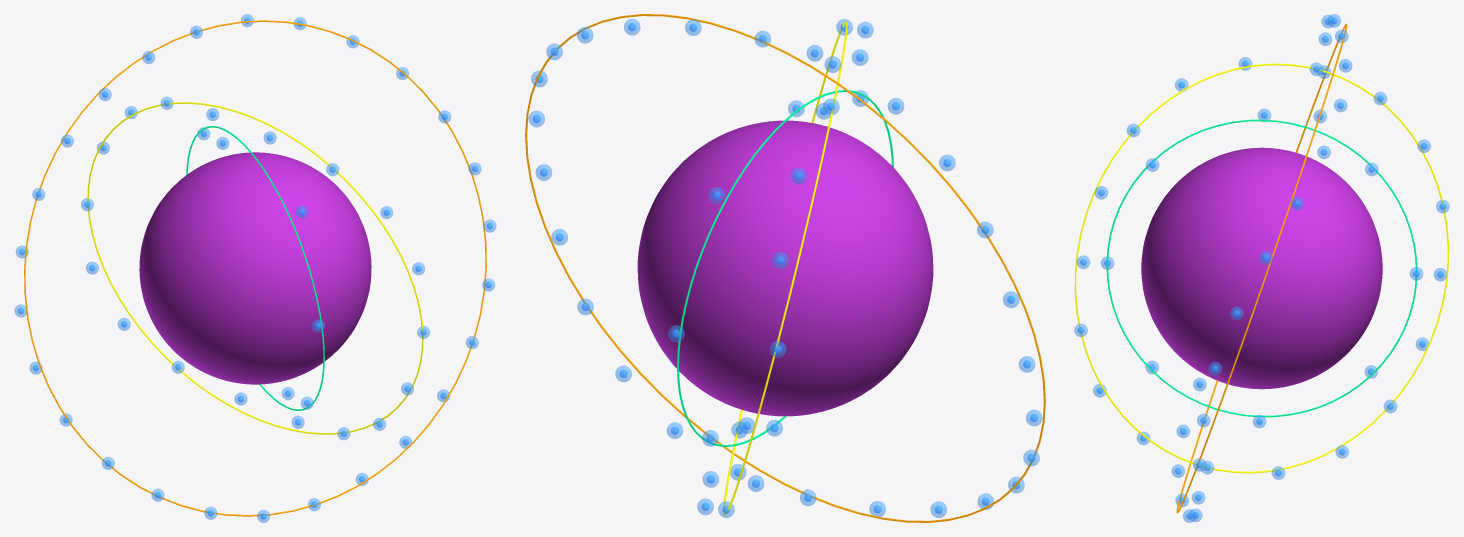
3 views of the same model, side by side, from view 1: azimuth 30°, elevation 25°; view 2: azimuth 150°, elevation 25°; view 3: azimuth 270°, elevation 25° (orthographic). The views are drawn at different scales.
Visible parts, largest first — view 1: Xe, object 61, object 24, object 7; view 2: Xe, object 61, object 24, object 7; view 3: Xe, object 24, object 7, object 61.
Boxes of the visible parts, left/top/right/bottom form: Xe: left=139, top=152, right=371, bottom=384; object 61: left=24, top=20, right=486, bottom=516; object 24: left=87, top=102, right=423, bottom=434; object 7: left=186, top=126, right=324, bottom=410; Xe: left=637, top=120, right=933, bottom=416; object 61: left=525, top=14, right=1045, bottom=522; object 24: left=723, top=21, right=847, bottom=515; object 7: left=677, top=90, right=893, bottom=446; Xe: left=1141, top=147, right=1382, bottom=389; object 24: left=1074, top=63, right=1449, bottom=473; object 7: left=1106, top=119, right=1417, bottom=417; object 61: left=1176, top=23, right=1347, bottom=513.
Bounding box in the file's own units: 6.07 × 5.84 × 4.36.
